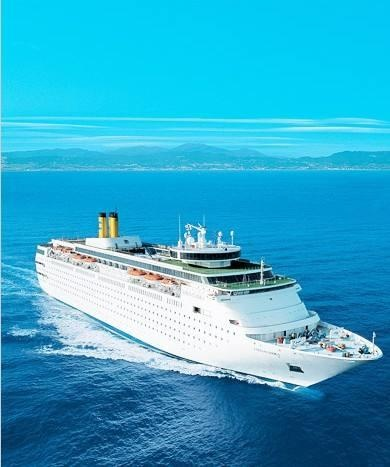youlun: (32, 219, 383, 388)
